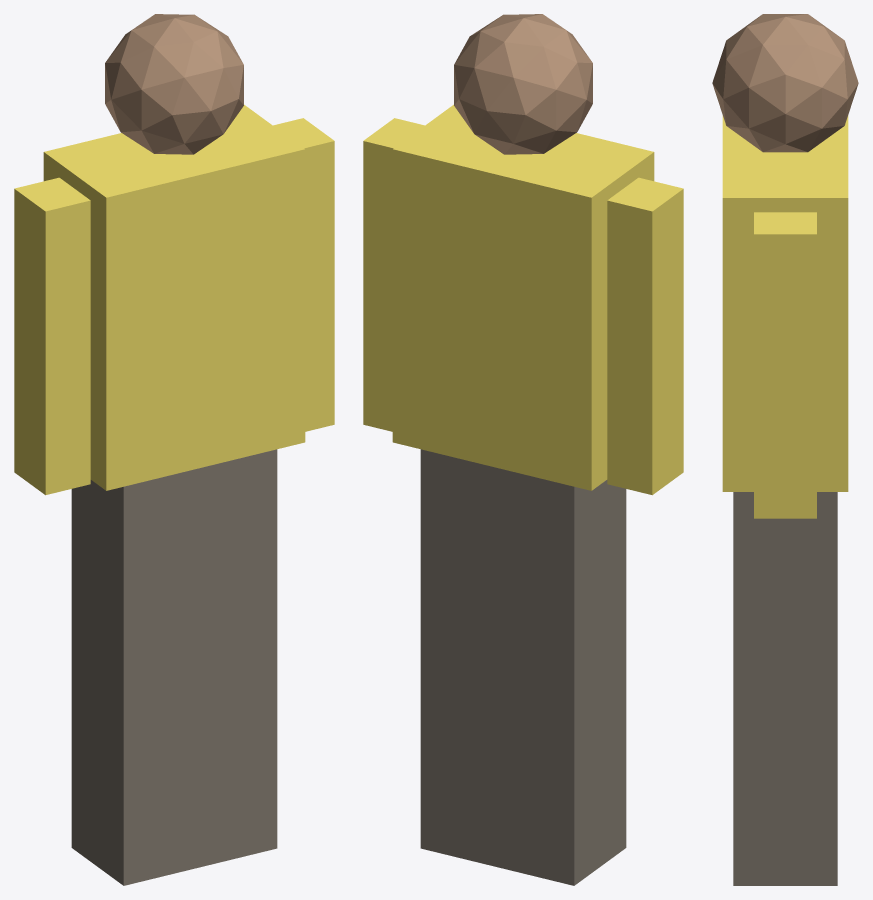
The model's file is person-b.glb.
3 renders of one model, left to right at view 1: azimuth 30°, elevation 25°; view 2: azimuth 150°, elevation 25°; view 3: azimuth 270°, elevation 25°, orthographic.
Parts seen in each view (by area): view 1: l, t, a, h, b; view 2: l, t, a, h, b; view 3: l, t, b, h.
Part boxes in pixels (box(x1,y1,x2,y2)): l: box(71, 449, 277, 885); t: box(43, 104, 305, 490); a: box(14, 177, 90, 495); h: box(105, 14, 243, 154); b: box(273, 118, 334, 431); l: box(420, 449, 626, 885); t: box(392, 104, 654, 490); a: box(607, 177, 683, 495); h: box(454, 14, 592, 154); b: box(363, 118, 424, 431); l: box(733, 492, 837, 885); t: box(722, 115, 848, 491); b: box(754, 212, 816, 518); h: box(712, 14, 858, 152).
Size of the model in its own units: 0.64 by 1.75 by 0.28.
